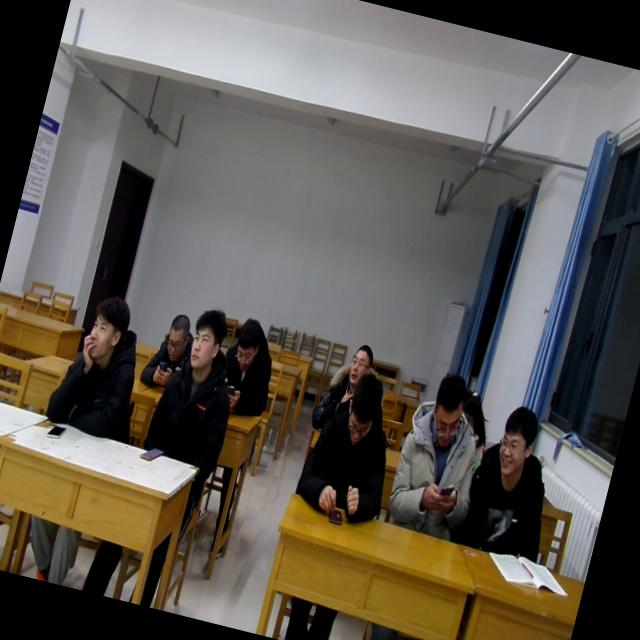bow: (210, 310, 288, 422), (138, 306, 201, 391)
down: (76, 286, 136, 370), (335, 366, 389, 453), (422, 367, 474, 454), (226, 311, 272, 375), (157, 306, 196, 366)
lookup: (488, 396, 548, 487), (178, 300, 232, 380), (341, 337, 375, 386)
sit: (379, 360, 501, 546), (290, 358, 413, 528), (138, 298, 256, 472), (39, 282, 163, 444), (454, 395, 572, 564), (306, 333, 379, 441)
